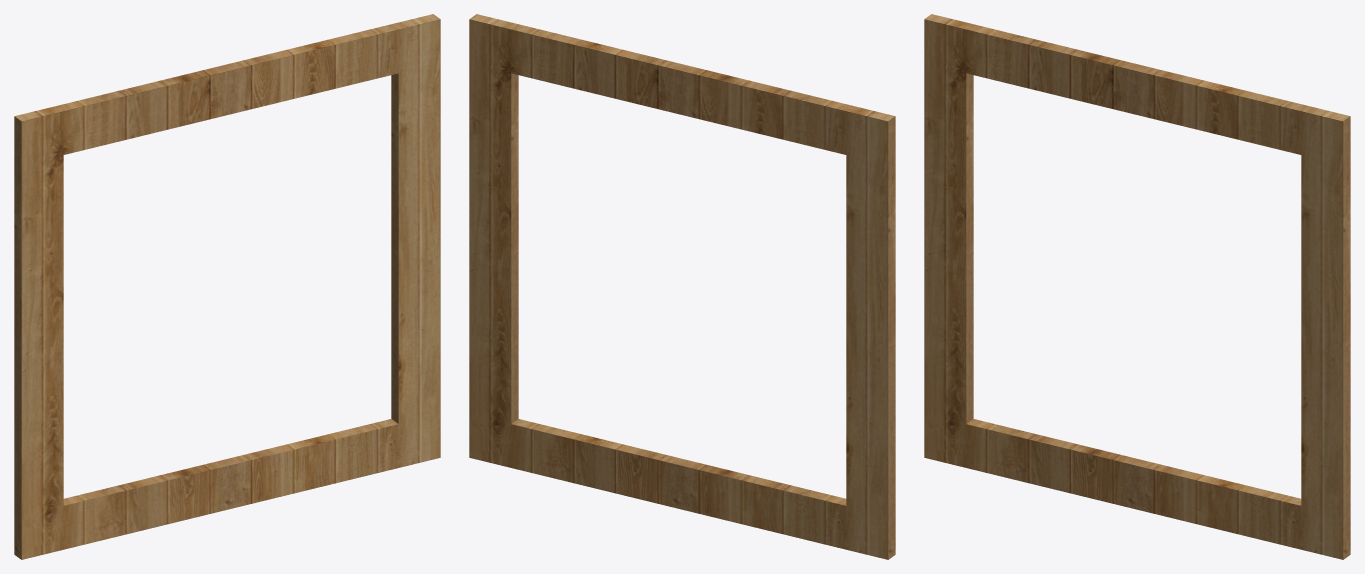
File: Window1x1.fbx
The picture shows the model from 3 angles, left to right: view 1: azimuth 30°, elevation 25°; view 2: azimuth 150°, elevation 25°; view 3: azimuth 330°, elevation 25°; orthographic projection.
Visible parts, largest first — view 1: Window1x1; view 2: Window1x1; view 3: Window1x1.
Part boxes in pixels (<box>): Window1x1: <box>14,14,440,559</box>; Window1x1: <box>469,14,895,559</box>; Window1x1: <box>924,14,1350,559</box>.
Bounding box in the file's own units: 100 × 100 × 3.
